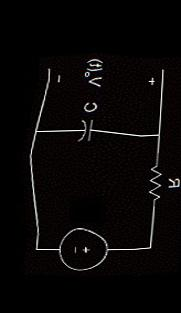Battery: (48, 216, 117, 286)
